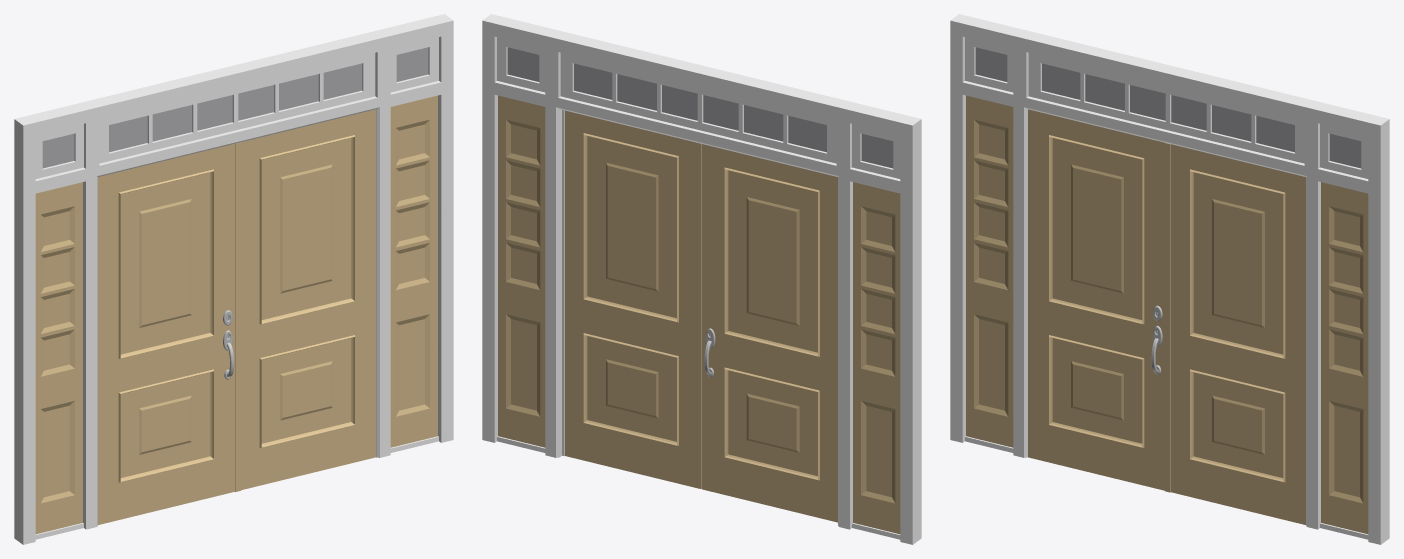
The model's file is 1065_double_door.glb.
3 views of the same model, side by side, from view 1: azimuth 30°, elevation 25°; view 2: azimuth 150°, elevation 25°; view 3: azimuth 330°, elevation 25° (orthographic).
Visible parts, largest first — view 1: waku, 1, 2; view 2: waku, 1, 2; view 3: waku, 1, 2.
Part boxes in pixels (<box>): waku: <box>14,14,453,544</box>; 1: <box>98,142,241,524</box>; 2: <box>241,109,375,489</box>; waku: <box>482,14,921,544</box>; 1: <box>701,144,837,522</box>; 2: <box>565,110,701,488</box>; waku: <box>950,14,1389,544</box>; 1: <box>1028,109,1170,492</box>; 2: <box>1171,144,1305,524</box>.
Size of the model in its own units: 2.76 by 2.57 by 0.149.
